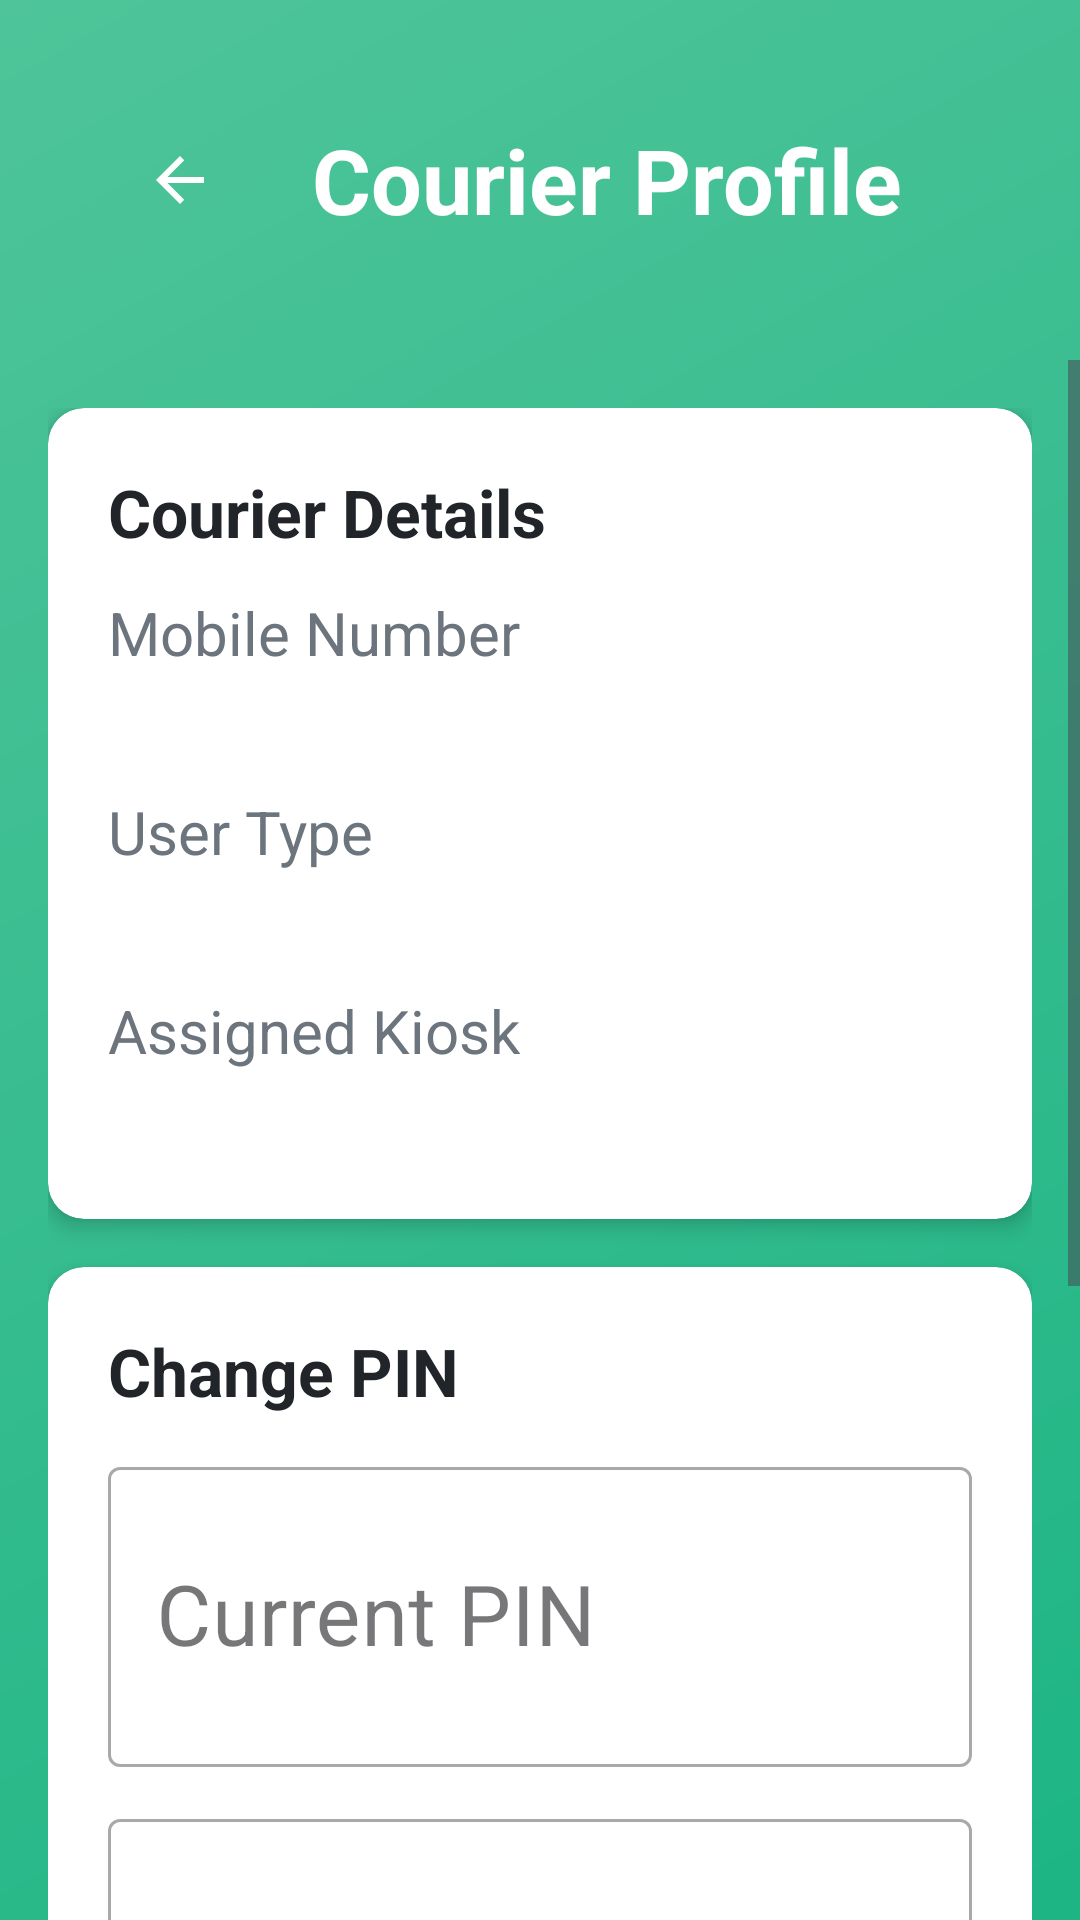

Point at icon controls on the screen. Image size 1080px x 1920px, points as (x=x, y=y).
Back: (x=180, y=180)
